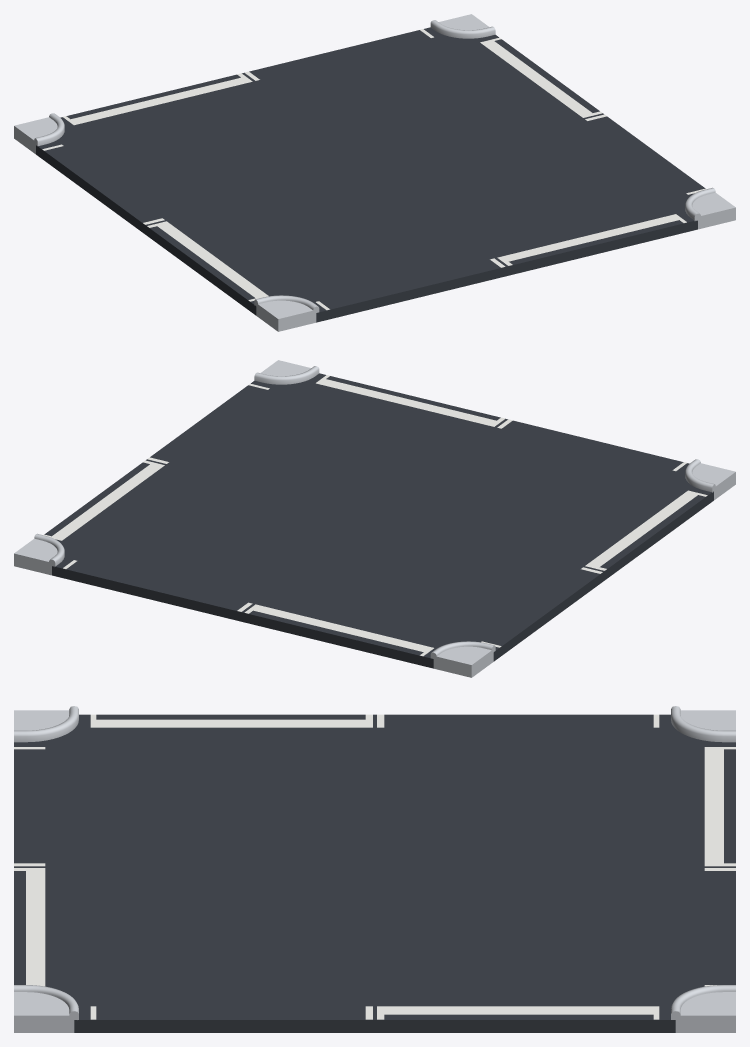
File: avenida_cruzamento_x.glb
The picture shows the model from 3 angles, top to bottom: view 1: azimuth 30°, elevation 25°; view 2: azimuth 150°, elevation 25°; view 3: azimuth 270°, elevation 25°; orthographic projection. The views are drawn at different scales.
Visible parts, largest first — view 1: avenida_cruzamento_x; view 2: avenida_cruzamento_x; view 3: avenida_cruzamento_x.
Part boxes in pixels (x1,y1,x2,y2): avenida_cruzamento_x: (14, 14, 735, 331); avenida_cruzamento_x: (14, 360, 735, 677); avenida_cruzamento_x: (14, 706, 735, 1032).
Size of the model in its own units: 15 by 0.5 by 15.
Materials: 1 (1 with a texture image).
